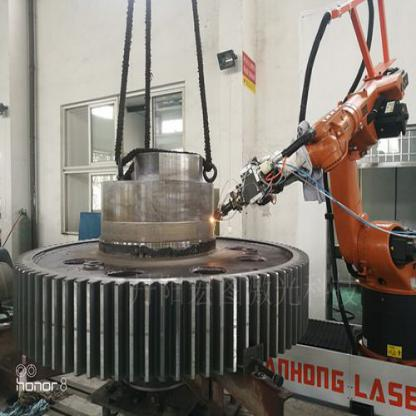FOD: (7, 232, 313, 388)
